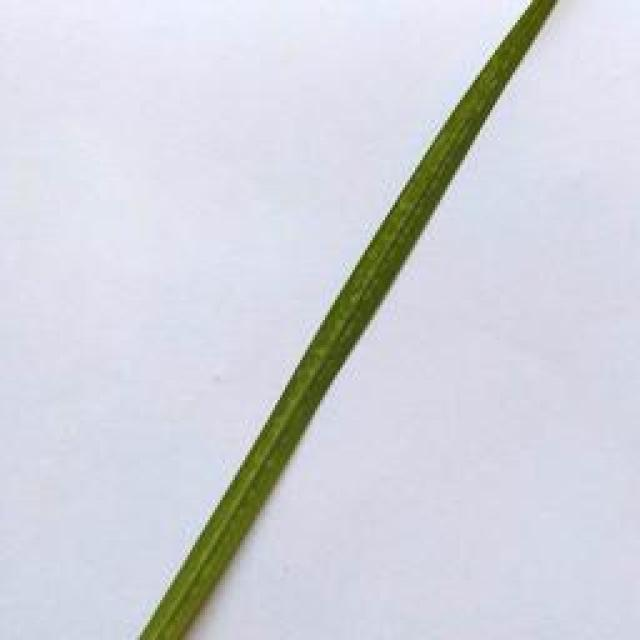Healthy-Plant: (140, 0, 558, 640)
